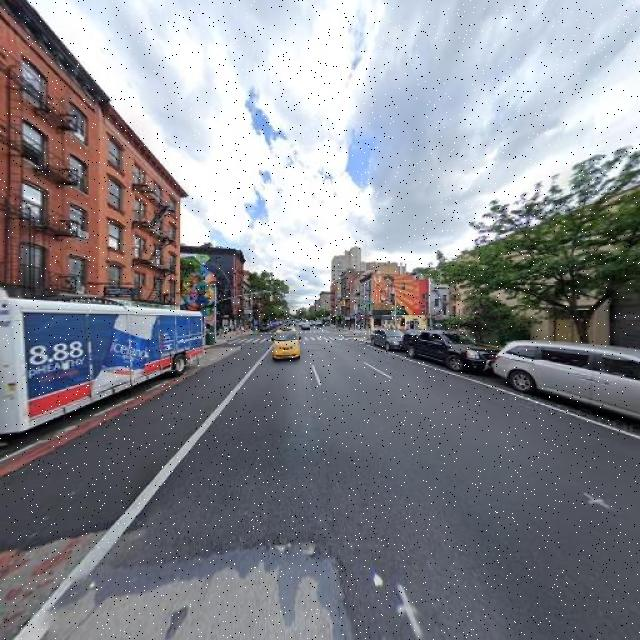Building: (1, 1, 99, 367), (457, 184, 640, 364)
